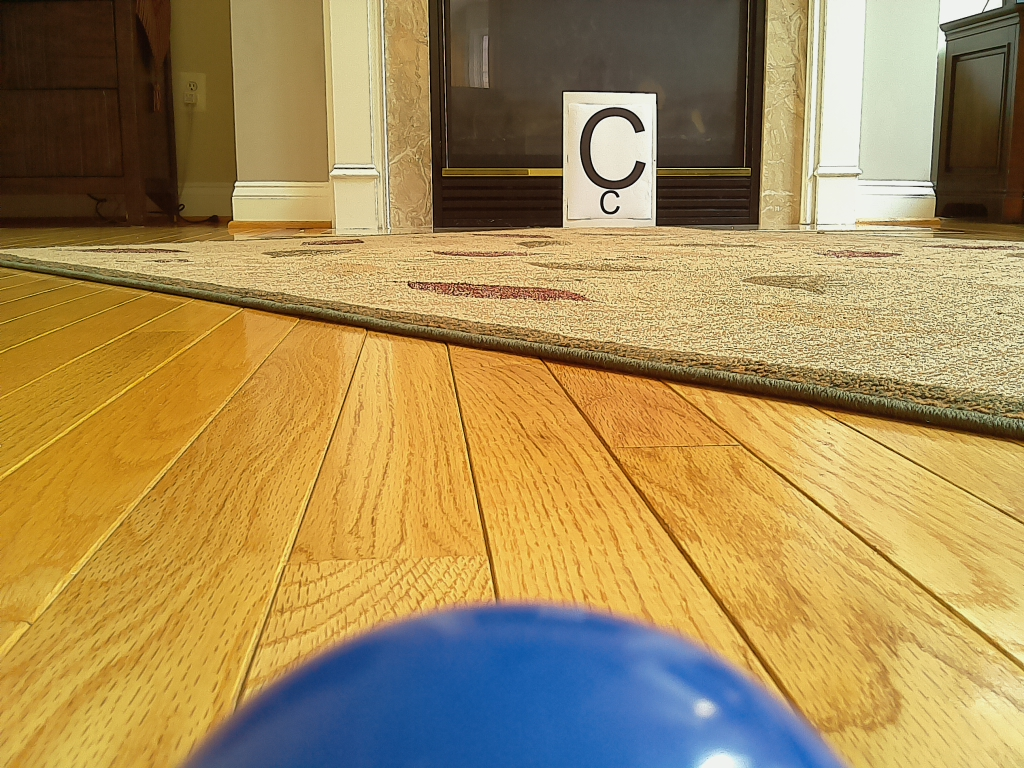letter: (581, 107, 645, 191)
